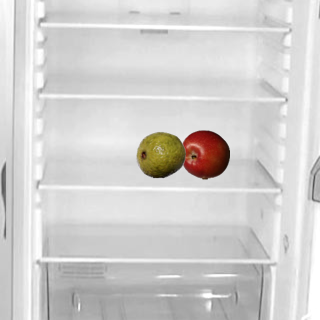Apple Braeburn: (179, 129, 229, 179)
Guava: (135, 129, 185, 179)
